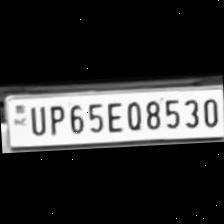0: (198, 93, 220, 126), (122, 97, 142, 130)
3: (179, 94, 199, 128)
5: (160, 94, 182, 128), (83, 98, 103, 132)
6: (64, 99, 84, 133)
8: (140, 96, 162, 130)
E: (102, 97, 122, 131)
P: (43, 100, 65, 136)
U: (24, 101, 46, 135)
